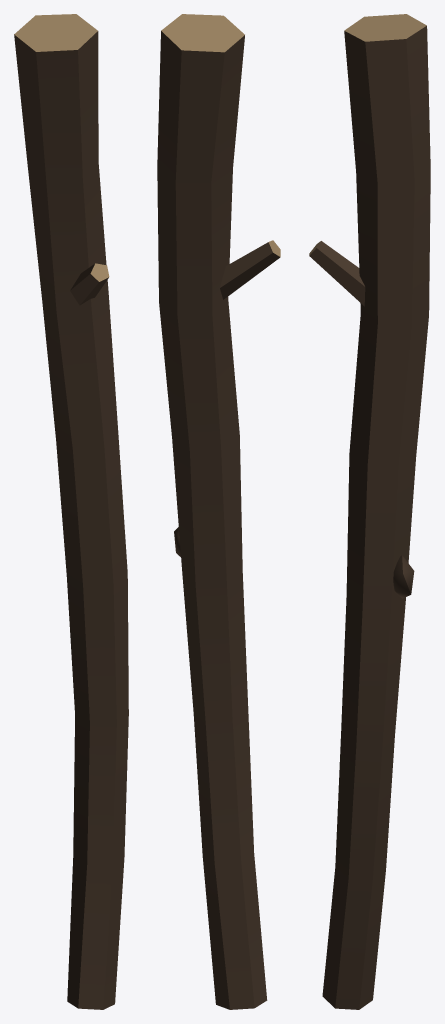
File: branch.glb
3 views of the same model, side by side, from view 1: azimuth 90°, elevation 25°; view 2: azimuth 150°, elevation 25°; view 3: azimuth 330°, elevation 25° (orthographic).
Visible parts, largest first — view 1: branch; view 2: branch; view 3: branch.
Part boxes in pixels (x1,y1,x2,y2): branch: (14, 14, 128, 1009); branch: (157, 14, 280, 1009); branch: (309, 14, 430, 1009).
Bounding box in the file's own units: 0.0927 × 0.8259 × 0.0888.
